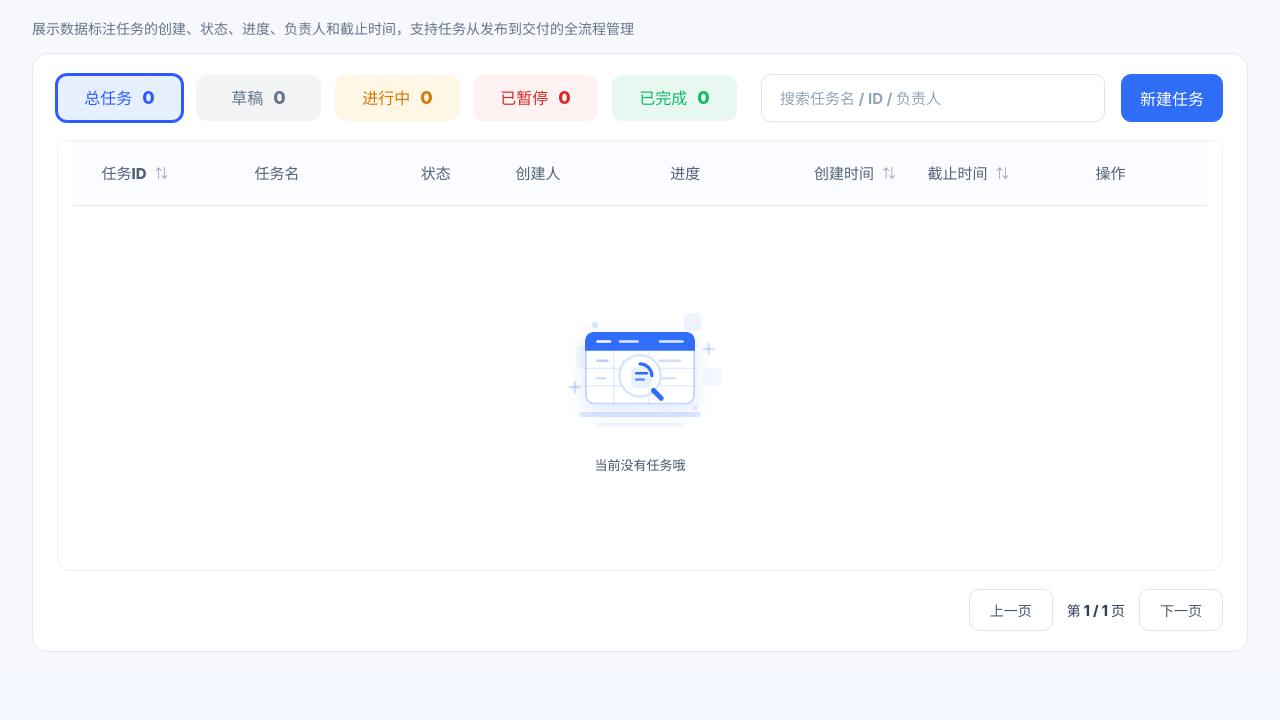
Test: TaskListPage › 新建任务抽屉不再展示单人限额输入框
Expected: the table named "任务列表" is shown, [73,141,1207,570]
Click the button "新建任务" at (1172, 98), box [1121,74,1223,122]
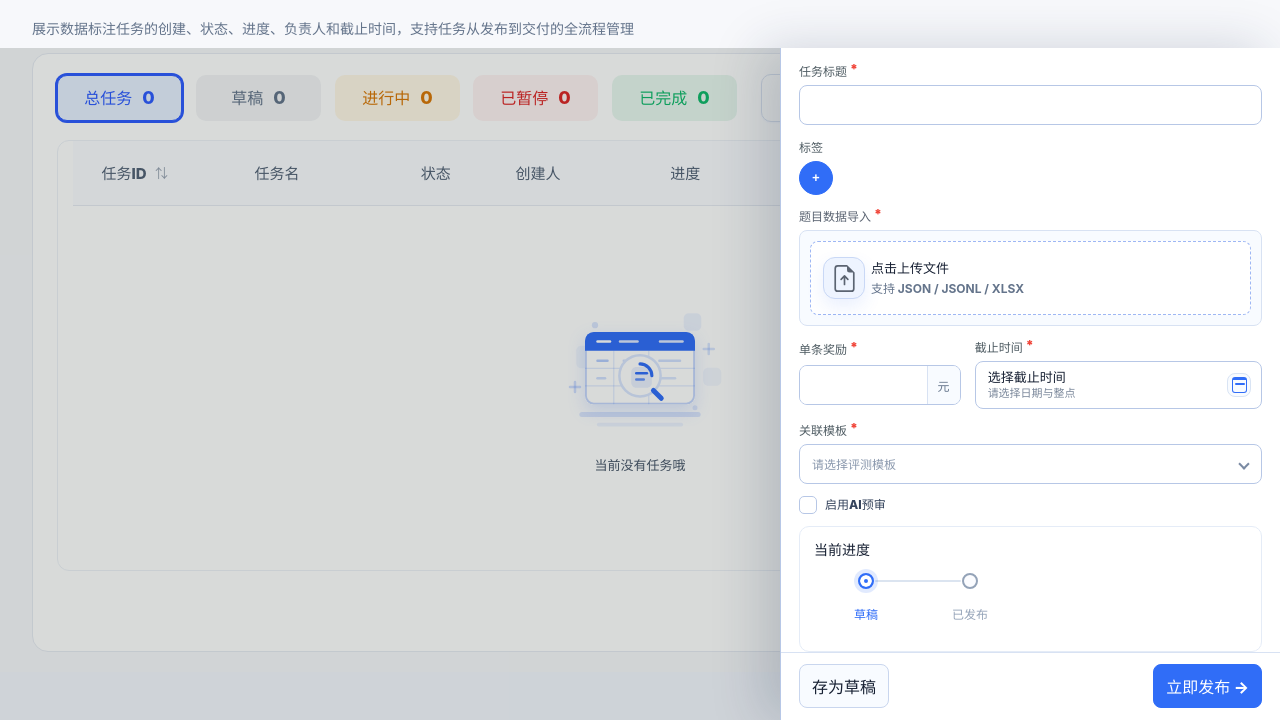
Expected: the field labelled "单人限额" is not shown
Type "不设单人限额任务" into the field labelled "任务标题" at (1030, 105), box [799,85,1262,125]
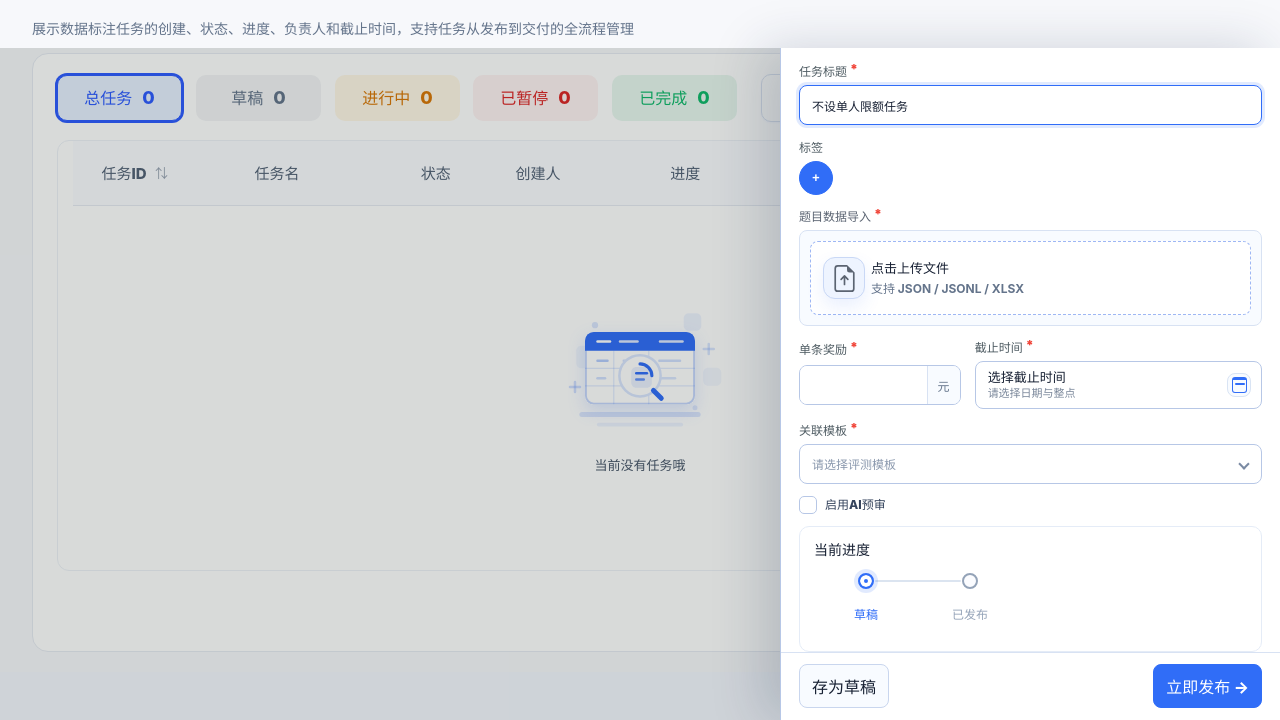
Click the button "存为草稿" at (844, 686), box [799,664,889,708]
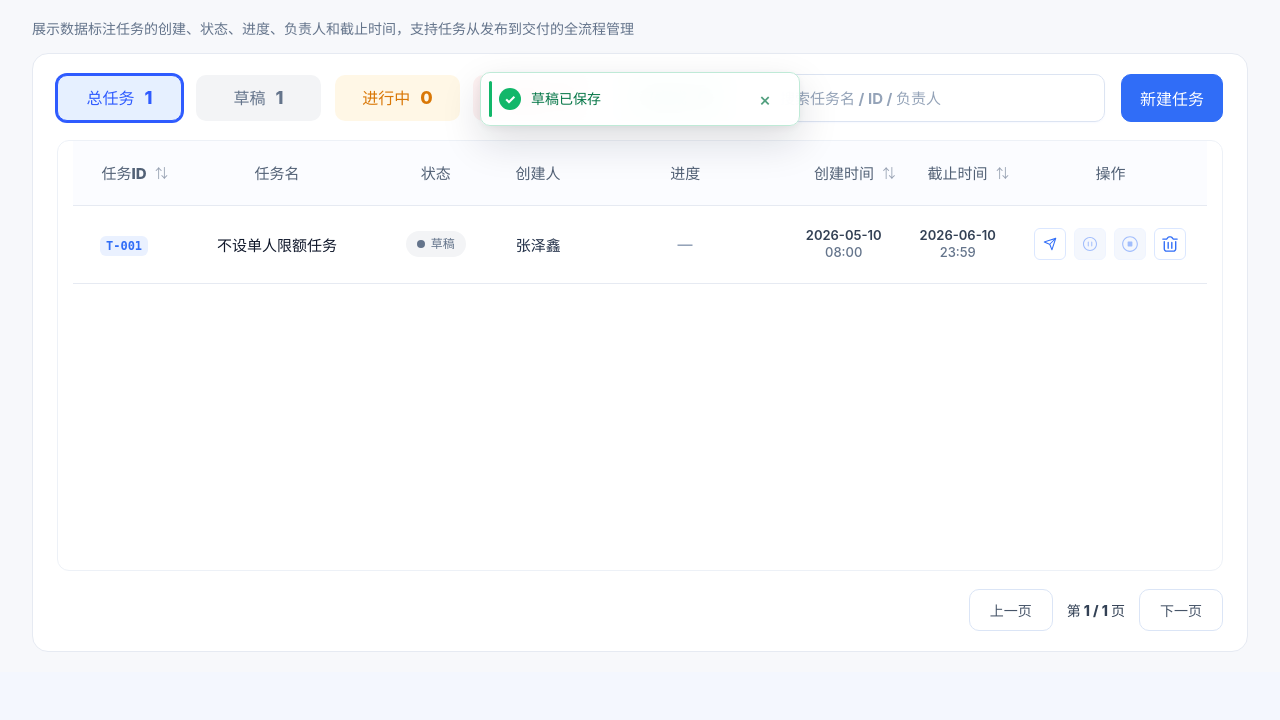
Expected: the text "草稿已保存" is shown, [531,90,601,107]
